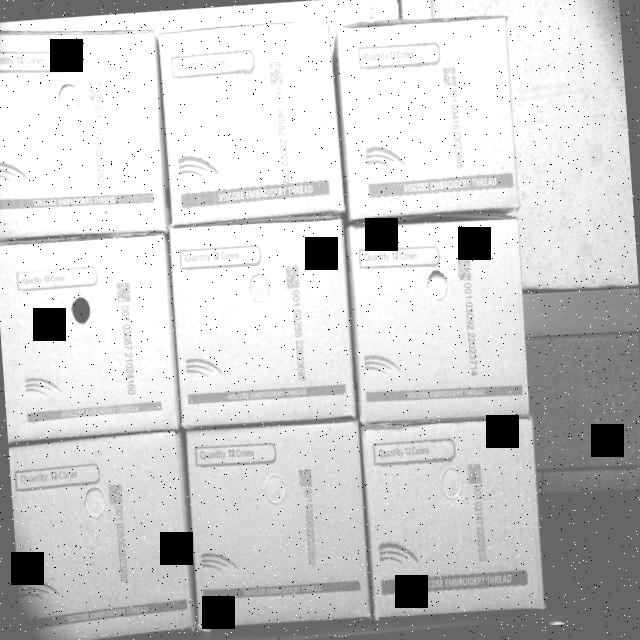box: (184, 418, 370, 628), (158, 17, 344, 222), (7, 433, 191, 640), (348, 214, 531, 422), (172, 217, 356, 422), (339, 12, 521, 216), (363, 416, 546, 618), (0, 25, 168, 243), (0, 235, 181, 436)
